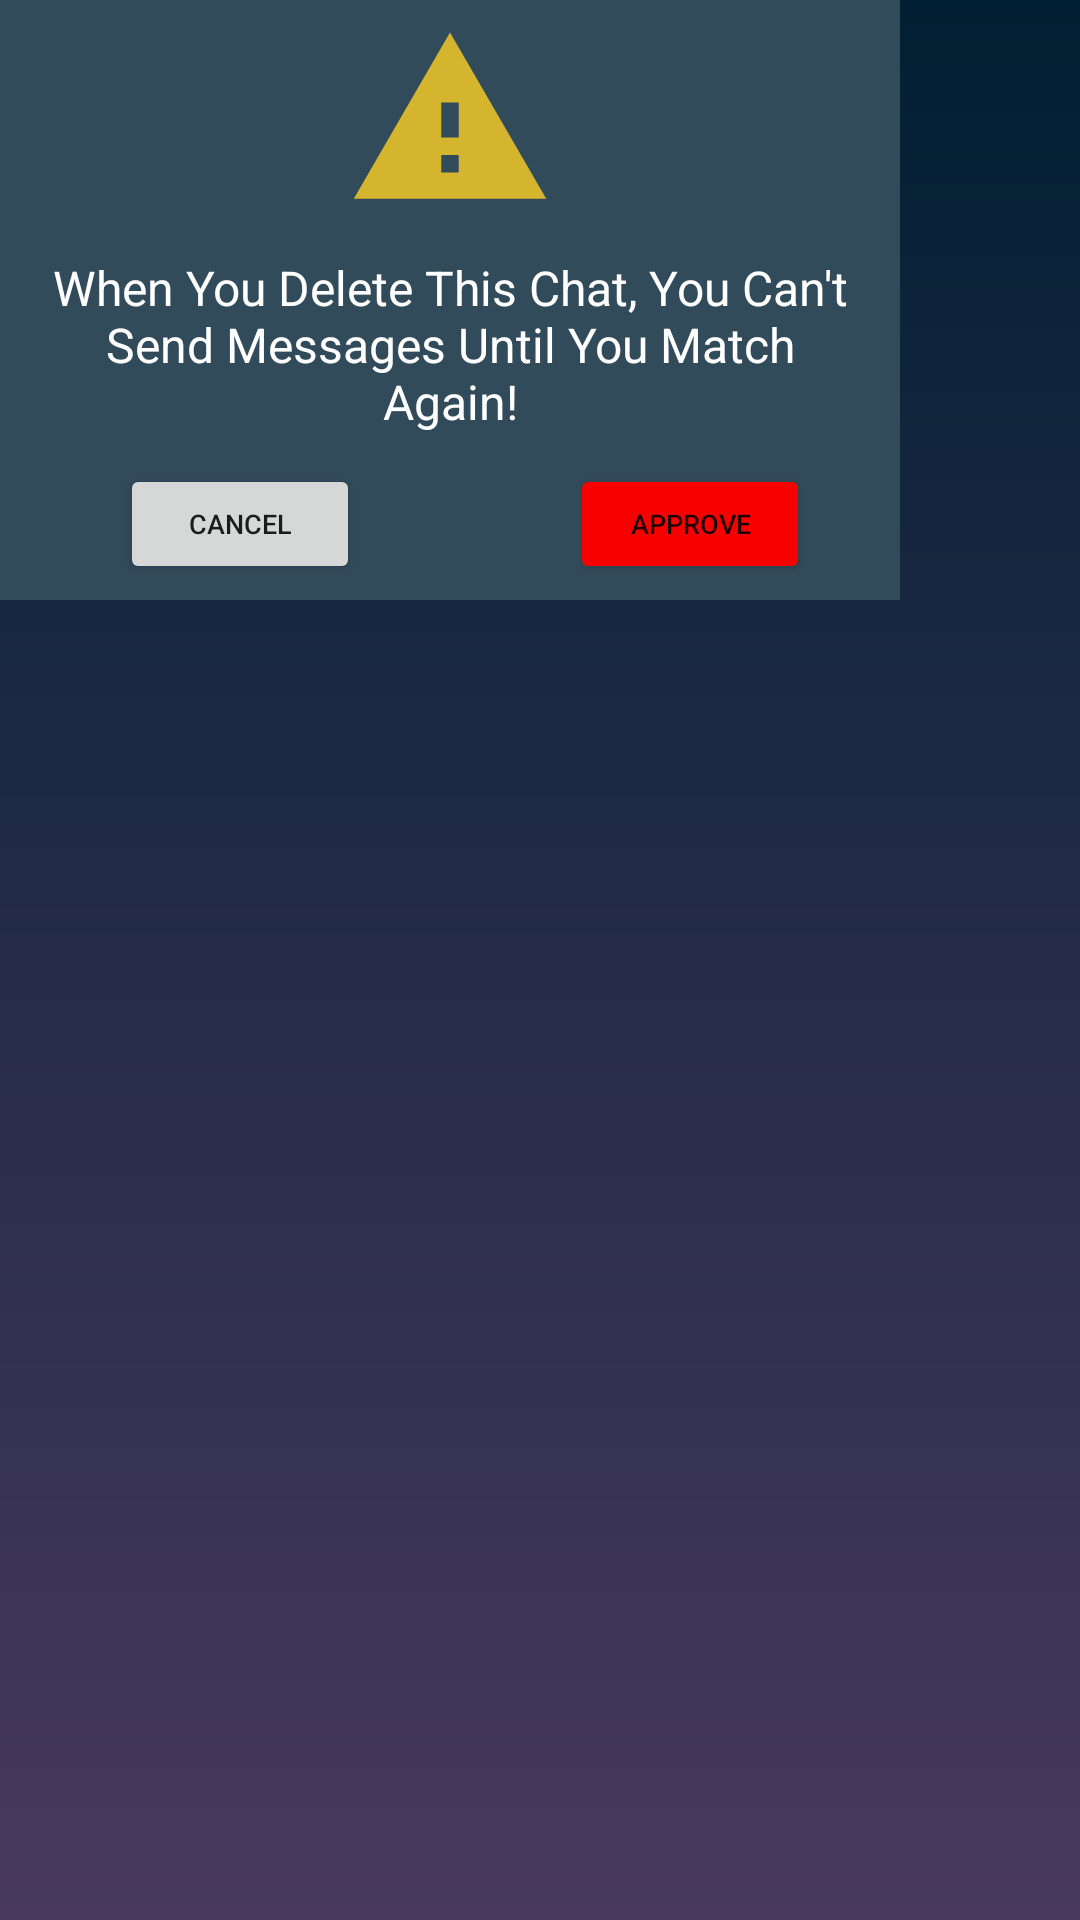

Icon bounding boxes for this 1080×1920 phone screenshot, format (x1, y1, x2, y2):
warning: (354, 33, 546, 199)
